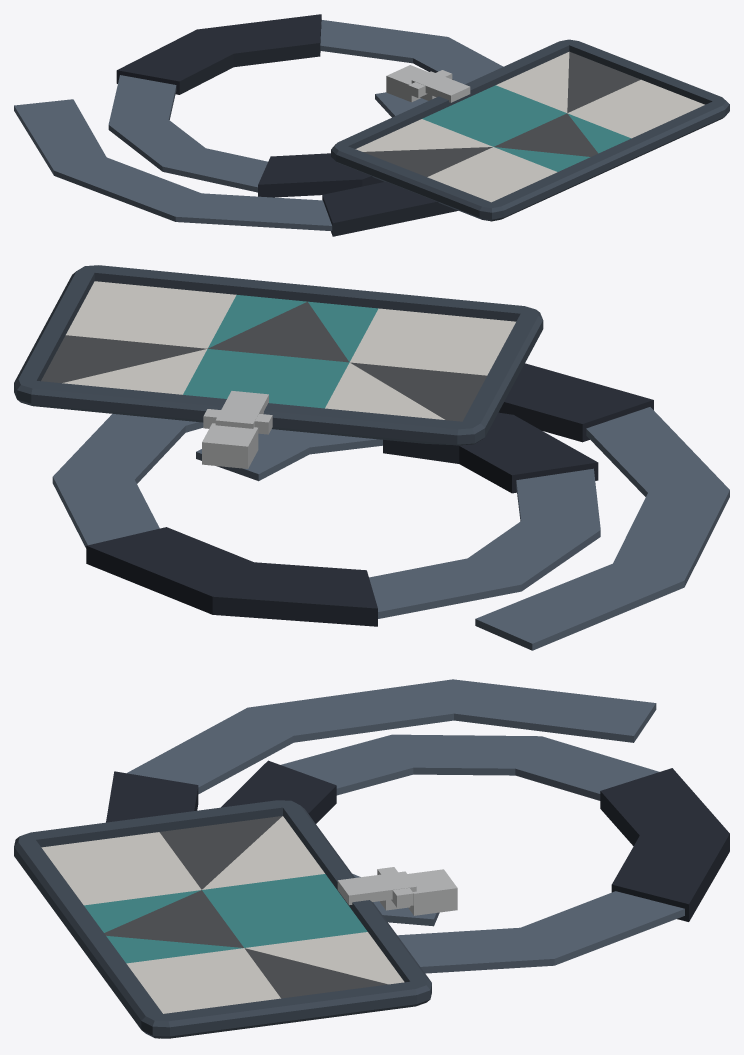
Rendered from lanyard-and-badge-941f5a.glb.
3 views of the same model, one above another, from view 1: azimuth 30°, elevation 25°; view 2: azimuth 150°, elevation 25°; view 3: azimuth 270°, elevation 25° (orthographic). The views are drawn at different scales.
Visible parts, largest first — view 1: lanyard-tape, badge-holder; view 2: lanyard-tape, badge-holder; view 3: lanyard-tape, badge-holder.
Boxes of the visible parts, x1,y1,x2,y2 form: lanyard-tape: (14,14,503,236); badge-holder: (331,39,729,221); lanyard-tape: (52,363,729,650); badge-holder: (14,265,543,445); lanyard-tape: (106,679,729,973); badge-holder: (14,800,431,1038).
Bounding box in the file's own units: 0.1698 × 0.00865 × 0.1412.
